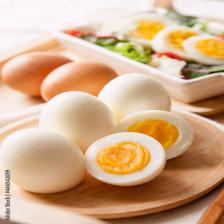egg: (0, 127, 87, 194), (84, 131, 168, 188), (37, 90, 117, 148), (114, 109, 195, 162), (97, 72, 172, 127)
